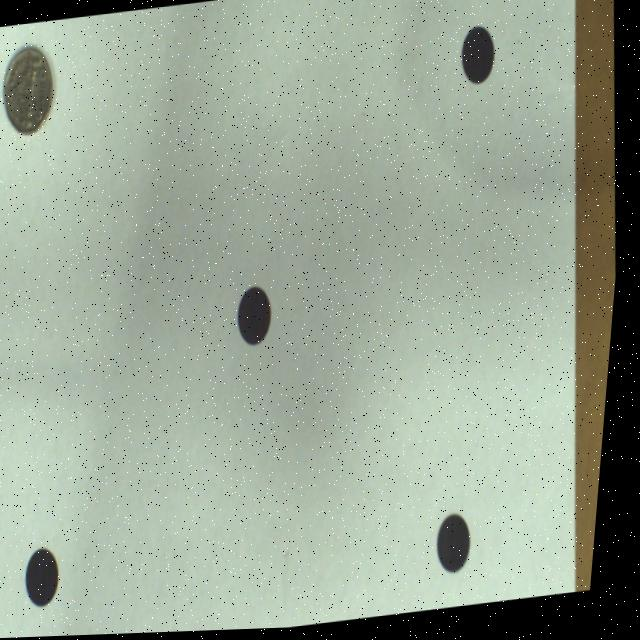space: (242, 287, 276, 348), (446, 517, 479, 577), (462, 30, 495, 87), (36, 550, 67, 606)
tail5bath: (5, 47, 54, 134)
